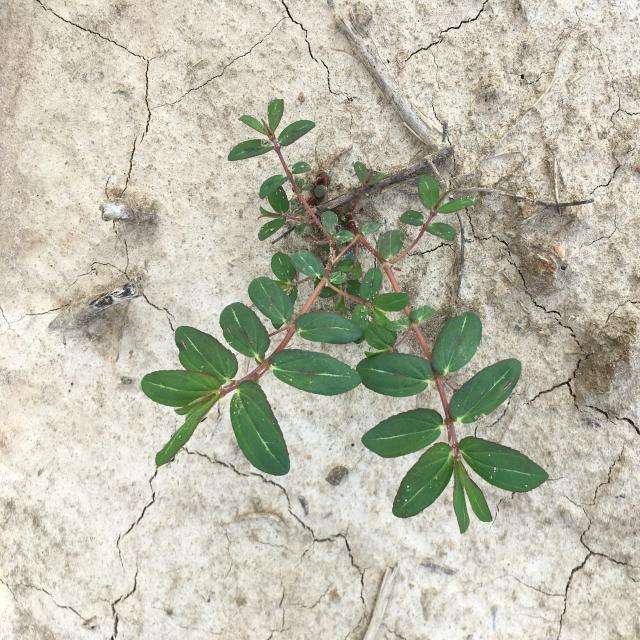SpottedSpurge: (141, 99, 549, 534)
